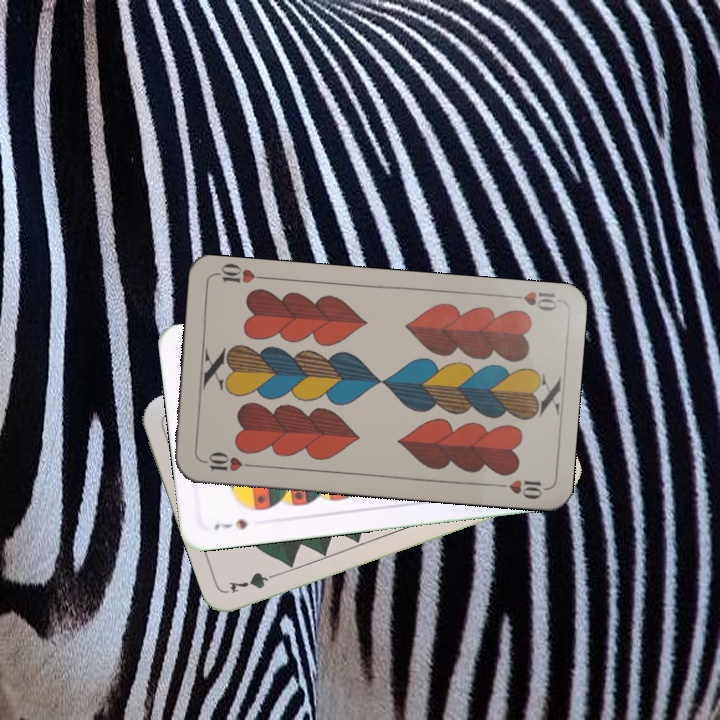G7: (225, 568, 284, 595)
H10: (502, 287, 559, 314), (198, 448, 257, 474)
S7: (210, 515, 250, 533)
